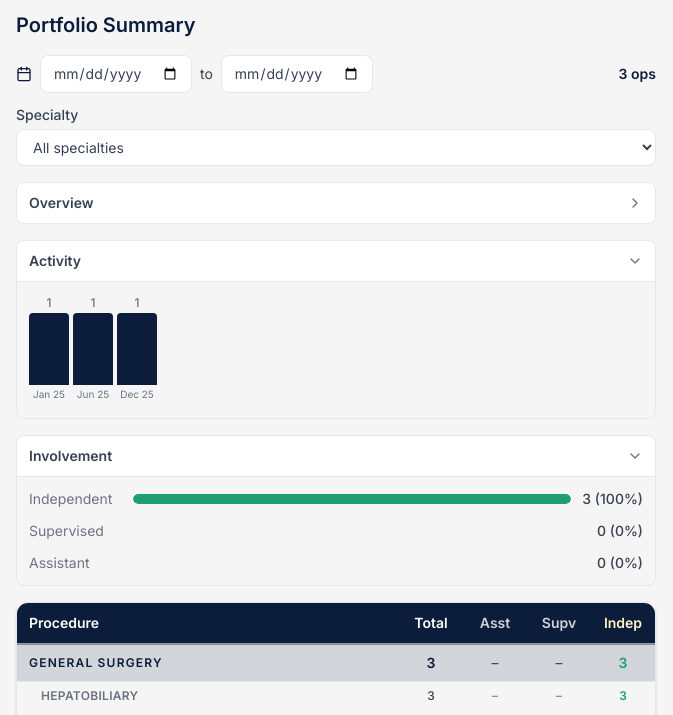
Scenario: Portfolio › shows clear button when date filter is active
The width and height of the screenshot is (673, 715).
Check: the text "Clear" is not shown
Type "2025-01-01" into the 1st date field named "From date".
click(116, 74); type("2025-01-01")  # box [40,55,192,93]
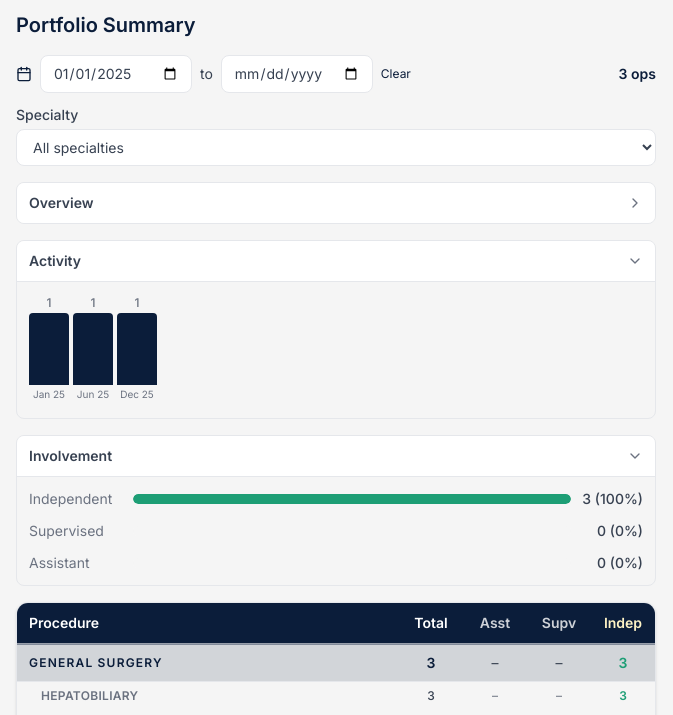
Check: the button "Clear" is shown, box [381,66,411,82]
